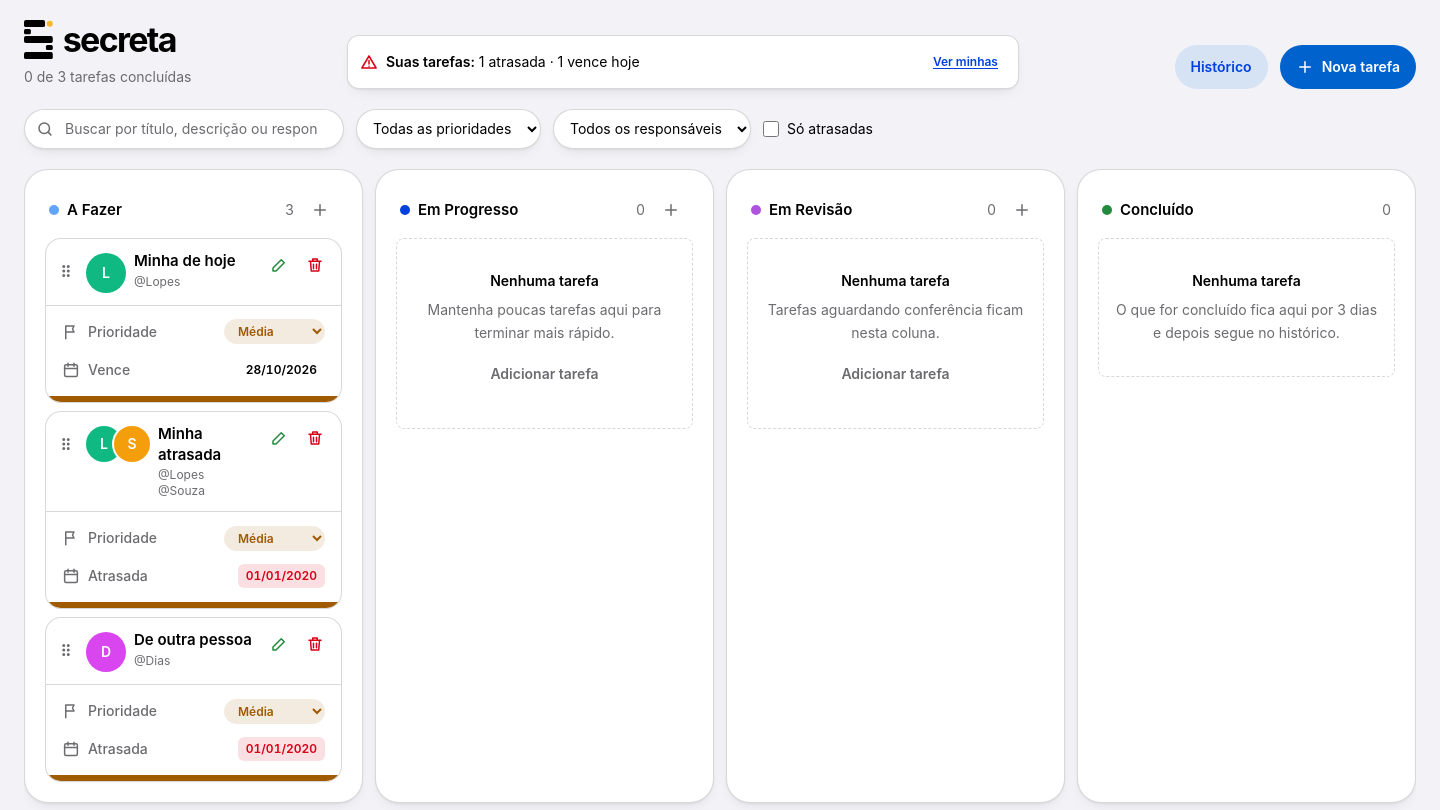
Test: App › avisa o responsável sobre as tarefas dele que vencem hoje ou atrasaram
Expected: the text "1 atrasada · 1 vence hoje" is shown, left=479, top=53, right=640, bottom=70
What coordinates should you click on to do the following:
click the button "Ver minhas"
I would click on:
 (965, 62)
Its box is left=925, top=46, right=1006, bottom=78.
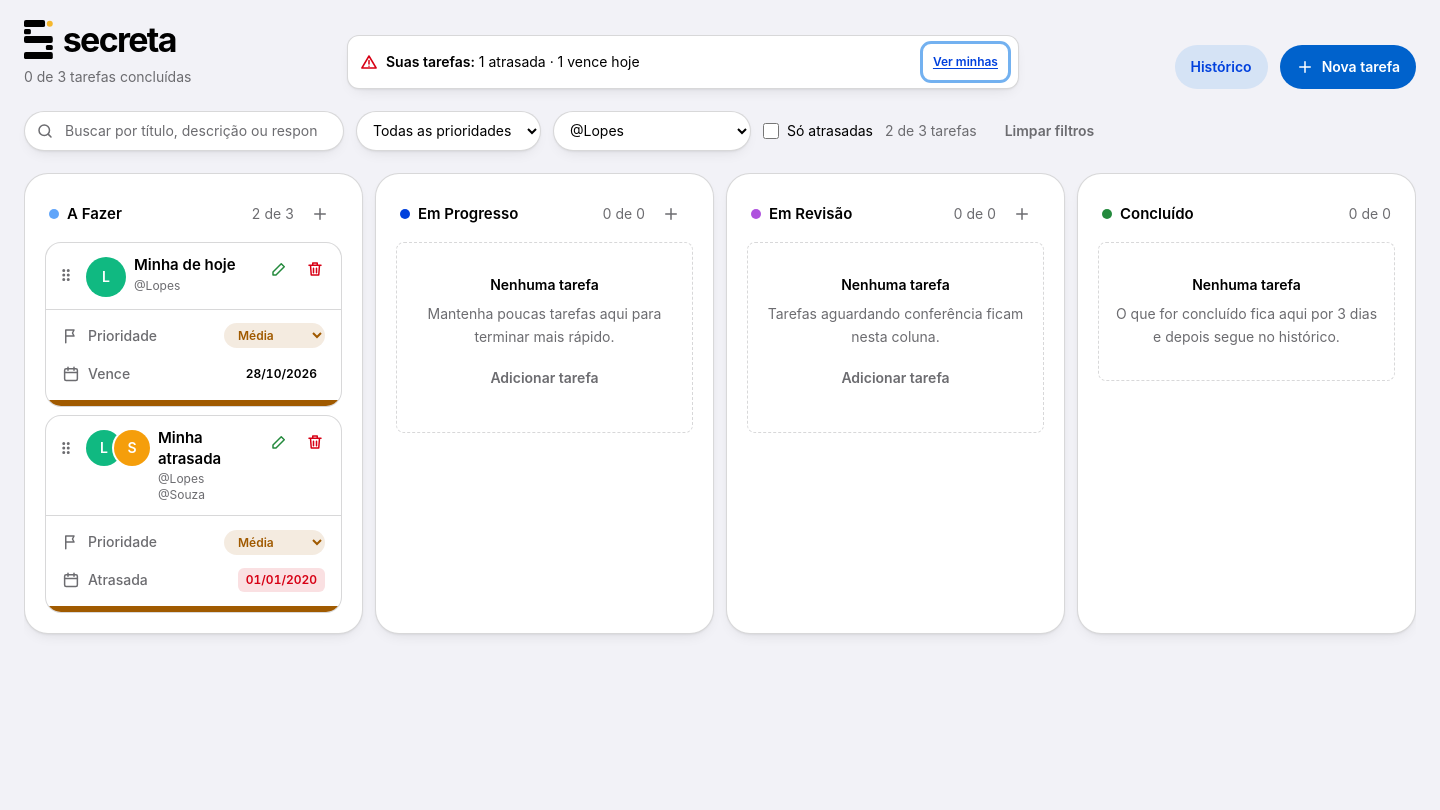
Expected: the heading "Minha de hoje" is shown, left=134, top=255, right=253, bottom=276
Expected: the heading "De outra pessoa" is gone
